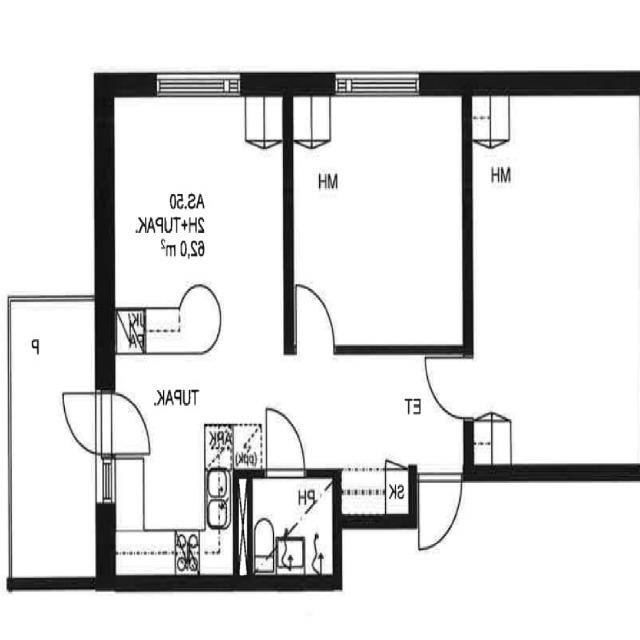door: (54, 392, 114, 454), (94, 392, 153, 454), (420, 465, 461, 547), (424, 357, 473, 418), (266, 407, 305, 478), (297, 284, 334, 353)
